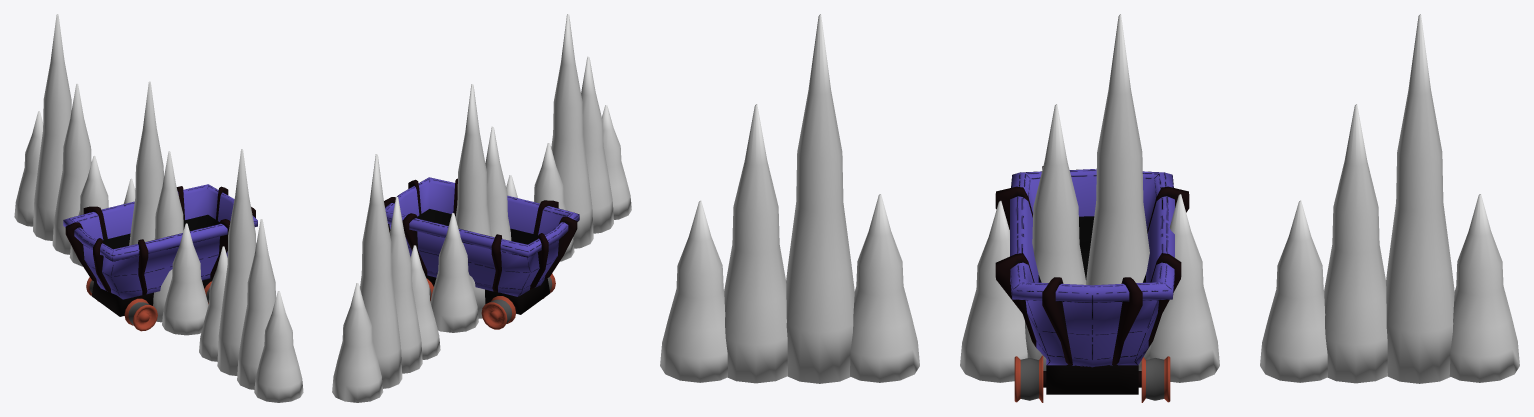
File: 2STALA_1VAGONETA.fbx
3 renders of one model, left to right at view 1: azimuth 30°, elevation 25°; view 2: azimuth 150°, elevation 25°; view 3: azimuth 270°, elevation 25°, orthographic. The views are drawn at different scales.
Visible parts, largest first — view 1: ESTALACTITA_DERECH, ESTALACTITA_IZQ, ESTALACTITA_CENTRO, MineCart.002, MineCart.003, MineCart.001, MineCart, MineCart.004; view 2: ESTALACTITA_IZQ, ESTALACTITA_DERECH, ESTALACTITA_CENTRO, MineCart.002, MineCart.003, MineCart.001, MineCart, MineCart.004; view 3: ESTALACTITA_DERECH, ESTALACTITA_IZQ, ESTALACTITA_CENTRO, MineCart.002, MineCart.003, MineCart, MineCart.001.
Boxes of the visible parts, x1=… form: ESTALACTITA_DERECH: x1=199, y1=149, x2=303, y2=402; ESTALACTITA_IZQ: x1=14, y1=14, x2=108, y2=266; ESTALACTITA_CENTRO: x1=123, y1=81, x2=208, y2=335; MineCart.002: x1=63, y1=184, x2=257, y2=299; MineCart.003: x1=65, y1=186, x2=255, y2=295; MineCart.001: x1=86, y1=277, x2=211, y2=331; MineCart: x1=91, y1=278, x2=213, y2=316; MineCart.004: x1=103, y1=214, x2=219, y2=249; ESTALACTITA_IZQ: x1=332, y1=154, x2=440, y2=402; ESTALACTITA_DERECH: x1=533, y1=14, x2=631, y2=261; ESTALACTITA_CENTRO: x1=430, y1=84, x2=517, y2=332; MineCart.002: x1=385, y1=177, x2=579, y2=296; MineCart.003: x1=384, y1=178, x2=577, y2=292; MineCart.001: x1=426, y1=273, x2=555, y2=329; MineCart: x1=425, y1=275, x2=550, y2=314; MineCart.004: x1=417, y1=209, x2=538, y2=244; ESTALACTITA_DERECH: x1=660, y1=14, x2=919, y2=383; ESTALACTITA_IZQ: x1=1260, y1=14, x2=1519, y2=383; ESTALACTITA_CENTRO: x1=960, y1=14, x2=1219, y2=382; MineCart.002: x1=1010, y1=169, x2=1174, y2=367; MineCart.003: x1=995, y1=166, x2=1189, y2=365; MineCart: x1=1043, y1=365, x2=1141, y2=394; MineCart.001: x1=1014, y1=355, x2=1170, y2=402.
Size of the model in its own units: 352 by 455 by 1003.
